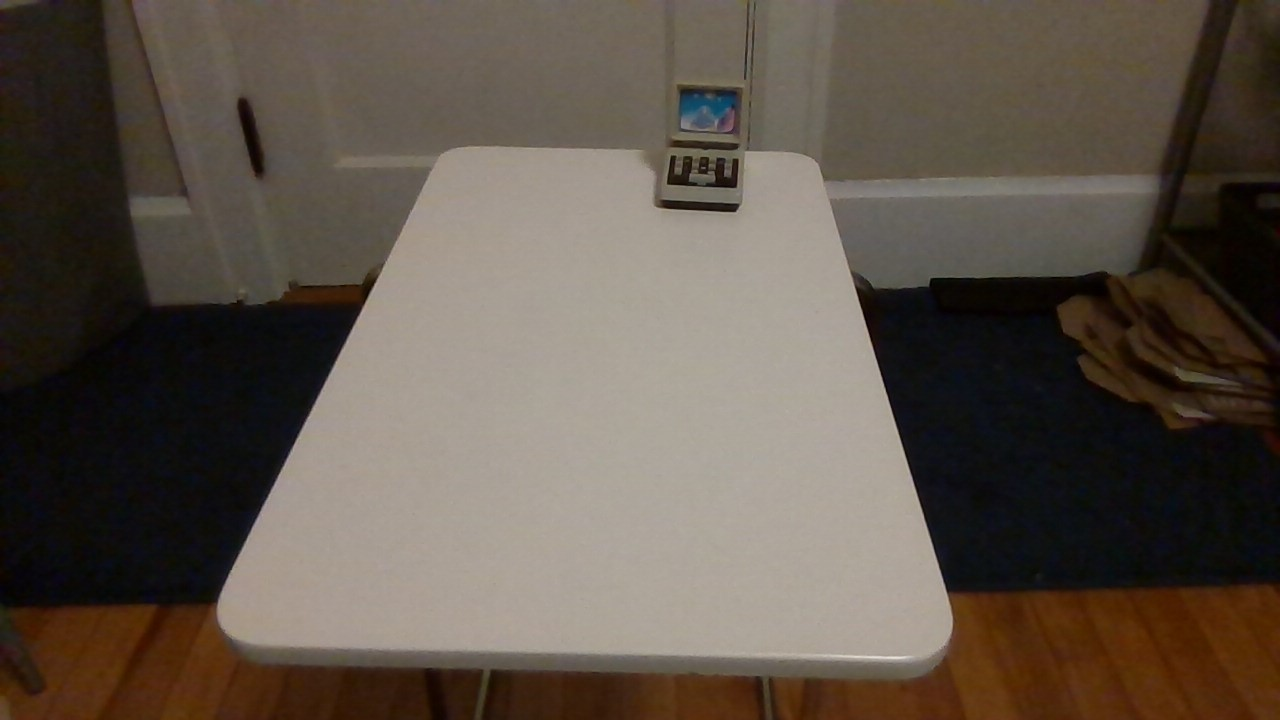Toy: (619, 59, 798, 231)
